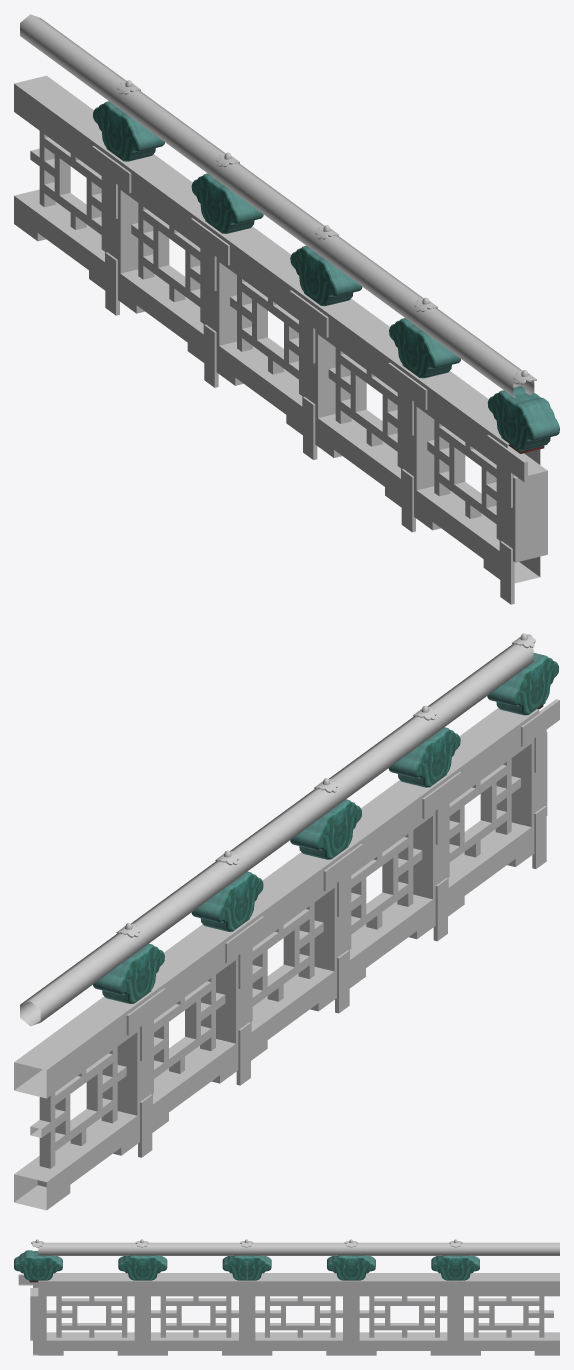
The model's file is SM_Handrail01C.fbx.
The picture shows the model from 3 angles, top to bottom: view 1: azimuth 30°, elevation 25°; view 2: azimuth 150°, elevation 25°; view 3: azimuth 270°, elevation 25°; orthographic projection. The views are drawn at different scales.
Visible parts, largest first — view 1: SM_Handrail01C; view 2: SM_Handrail01C; view 3: SM_Handrail01C.
Boxes of the visible parts, <box> form: SM_Handrail01C: <box>14,14,559,604</box>; SM_Handrail01C: <box>14,633,559,1210</box>; SM_Handrail01C: <box>14,1239,559,1355</box>.
Bounding box in the file's own units: 6.64 × 172 × 41.52.
